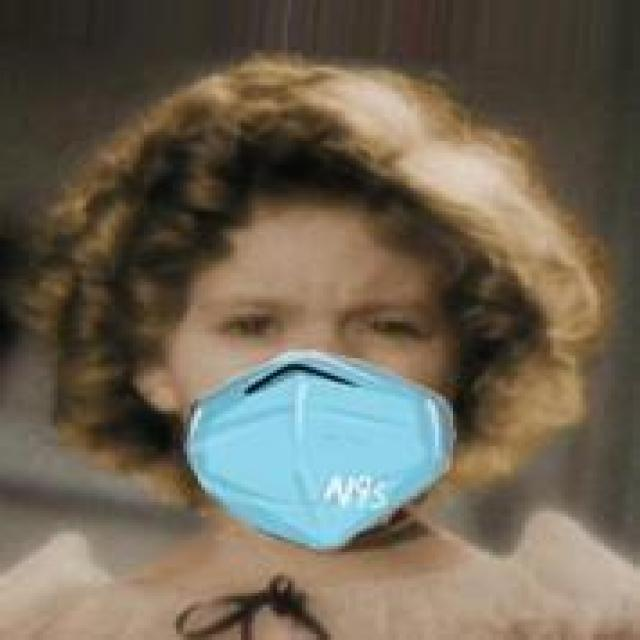mask: (115, 59, 565, 552)
